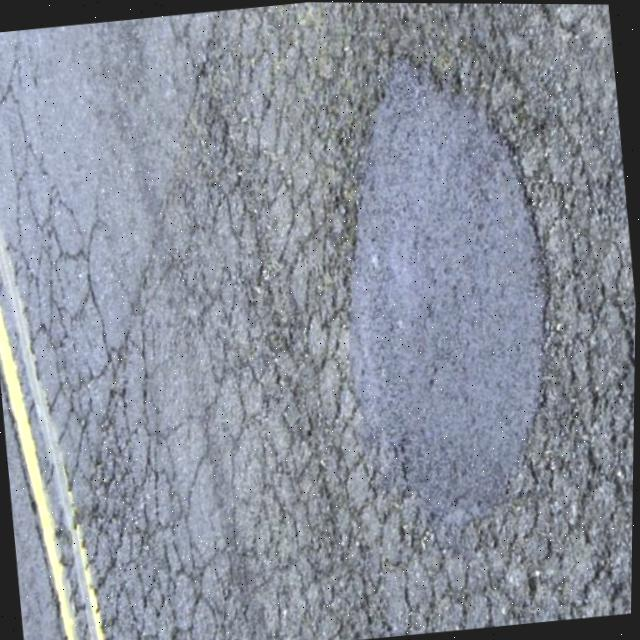Pothole: (298, 46, 586, 534)
